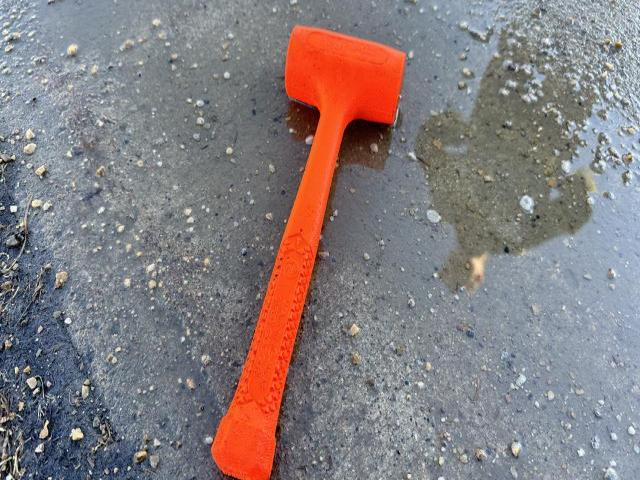hammer: (212, 22, 407, 480)
